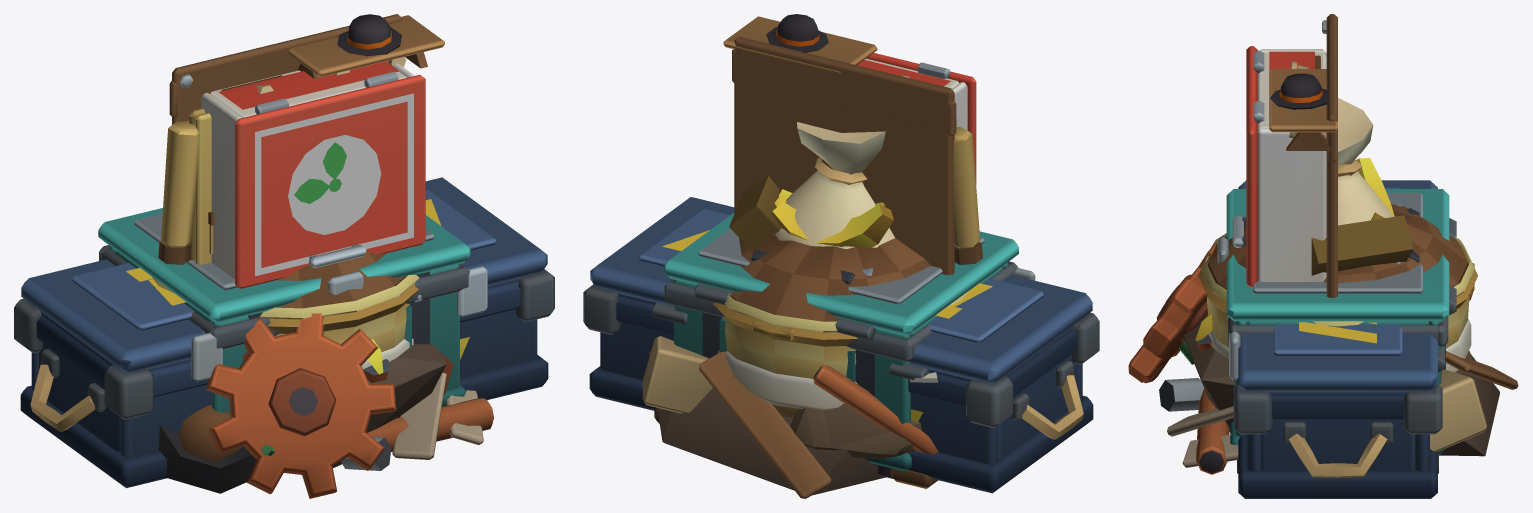
File: containers.glb
The picture shows the model from 3 angles, left to right: view 1: azimuth 30°, elevation 25°; view 2: azimuth 150°, elevation 25°; view 3: azimuth 270°, elevation 25°; orthographic projection. The views are drawn at different scales.
Parts seen in each view (by area): view 1: cont_medcabinet__lid, cont_parts__matte, cont_weapon__matte, cont_weapon__lid, cont_medcabinet__matte, cont_jacket__matte, cont_parts__lid, cont_trash__matte, cont_food__matte, cont_food__lid, cont_safe__matte; view 2: cont_medcabinet__matte, cont_weapon__matte, cont_trash__matte, cont_weapon__lid, cont_food__lid, cont_jacket__matte, cont_parts__lid, cont_food__matte, cont_parts__matte, cont_sack__lid, cont_safe__matte, cont_medcabinet__lid; view 3: cont_weapon__matte, cont_medcabinet__matte, cont_weapon__lid, cont_parts__lid, cont_trash__matte, cont_food__lid, cont_parts__matte, cont_jacket__matte, cont_sack__lid, cont_medcabinet__lid, cont_food__matte.
Boxes of the visible parts, x1,y1,x2,y2 form: cont_medcabinet__lid: (235, 75, 425, 288); cont_parts__matte: (99, 245, 493, 498); cont_weapon__matte: (14, 269, 554, 488); cont_weapon__lid: (21, 177, 547, 381); cont_medcabinet__matte: (172, 14, 414, 278); cont_jacket__matte: (158, 14, 444, 264); cont_parts__lid: (98, 208, 470, 323); cont_trash__matte: (158, 339, 483, 493); cont_food__matte: (179, 283, 418, 461); cont_food__lid: (151, 252, 419, 319); cont_safe__matte: (248, 271, 429, 344); cont_medcabinet__matte: (734, 36, 967, 275); cont_weapon__matte: (583, 284, 1099, 493); cont_trash__matte: (642, 336, 938, 498); cont_weapon__lid: (590, 197, 1092, 383); cont_food__lid: (724, 176, 968, 332); cont_jacket__matte: (723, 14, 982, 264); cont_parts__lid: (664, 213, 1018, 336); cont_food__matte: (713, 302, 857, 417); cont_parts__matte: (664, 261, 1018, 478); cont_sack__lid: (775, 122, 894, 249); cont_safe__matte: (702, 250, 883, 466); cont_medcabinet__lid: (866, 53, 976, 184); cont_weapon__matte: (1233, 346, 1444, 498); cont_medcabinet__matte: (1253, 14, 1337, 297); cont_weapon__lid: (1229, 180, 1437, 392); cont_parts__lid: (1217, 189, 1449, 321); cont_trash__matte: (1159, 290, 1518, 467); cont_food__lid: (1201, 158, 1474, 326); cont_parts__matte: (1128, 218, 1456, 474); cont_jacket__matte: (1269, 55, 1337, 161); cont_sack__lid: (1338, 98, 1394, 225); cont_medcabinet__lid: (1232, 46, 1257, 287); cont_food__matte: (1198, 244, 1477, 372).
Bounding box in the file's own units: 2.27 × 1.77 × 1.7.
